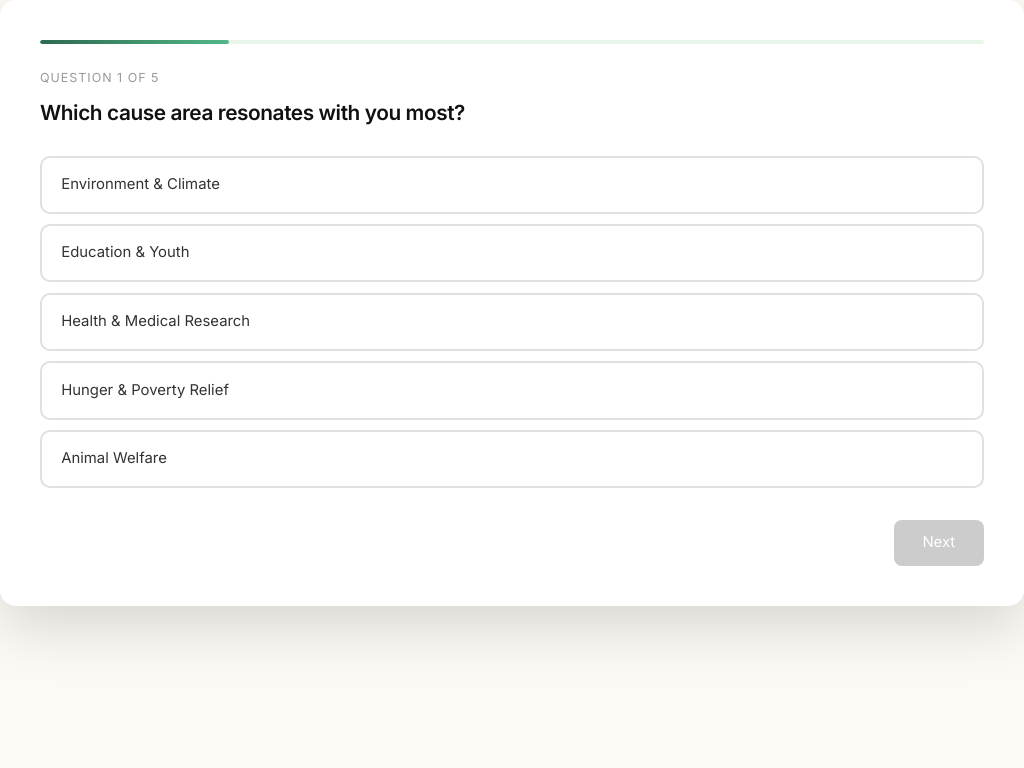
Scenario: Questionnaire › advances to the second question after clicking Next
The width and height of the screenshot is (1024, 768).
What coordinates should you click on to do the following:
click the button "Environment & Climate"
I would click on:
 (141, 184)
Its box is [40,156,984,214].
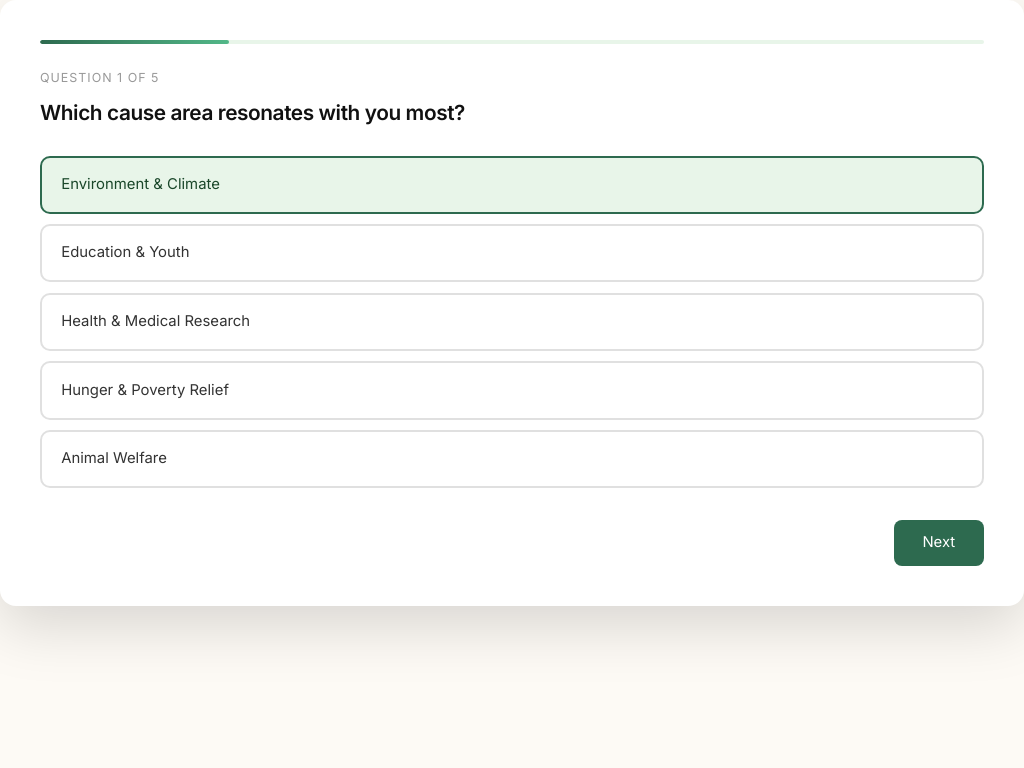
What coordinates should you click on to do the following:
click the button "Next"
I would click on:
 (939, 543)
Its box is [894,520,984,566].
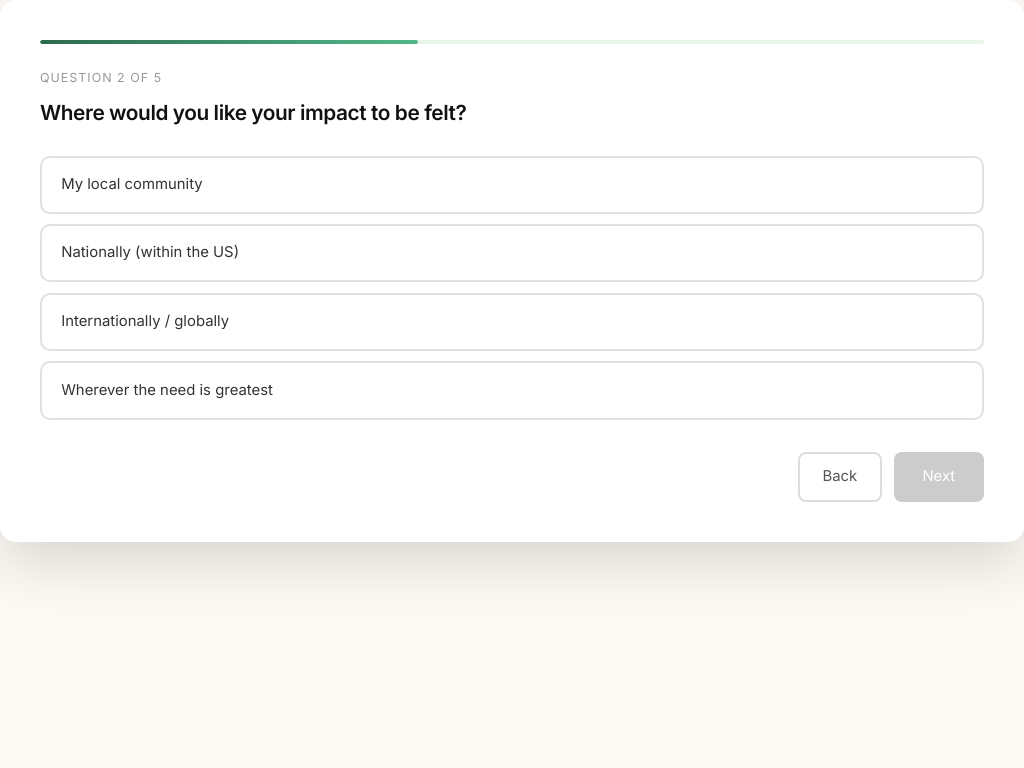
Expected: the heading "Where would you like your impact to be felt?" is shown, [40,100,466,125]
